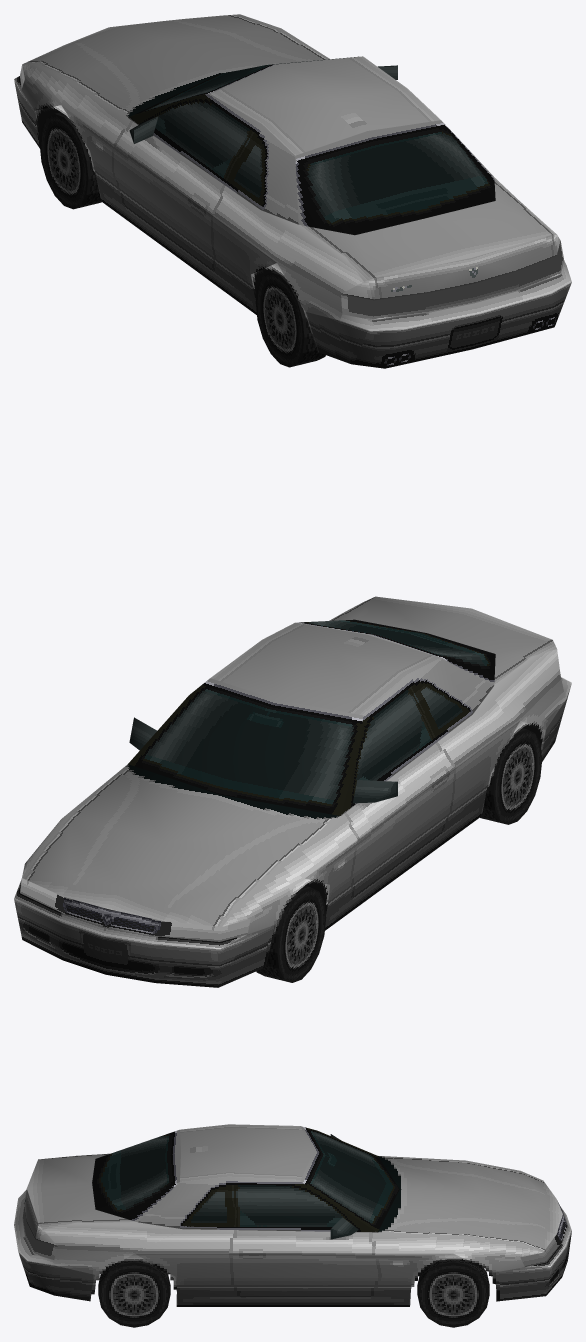
Rendered from night.glb.
3 views of the same model, one above another, from view 1: azimuth 30°, elevation 25°; view 2: azimuth 150°, elevation 25°; view 3: azimuth 270°, elevation 25° (orthographic). The views are drawn at different scales.
Visible parts, largest first — view 1: Native body LOD0, Native wheel 2, Native wheel 0; view 2: Native body LOD0, Native wheel 0, Native wheel 2; view 3: Native body LOD0, Native wheel 1, Native wheel 3.
Boxes of the visible parts, <box> form: Native body LOD0: <box>14,14,571,368</box>; Native wheel 2: <box>255,271,325,367</box>; Native wheel 0: <box>39,112,101,209</box>; Native body LOD0: <box>14,596,571,987</box>; Native wheel 0: <box>256,886,326,982</box>; Native wheel 2: <box>480,728,542,824</box>; Native body LOD0: <box>14,1124,571,1306</box>; Native wheel 1: <box>417,1259,489,1327</box>; Native wheel 3: <box>98,1260,170,1327</box>.
Bounding box in the file's own units: 1.94 × 2.32 × 4.82.
12 materials, 11 textured.
